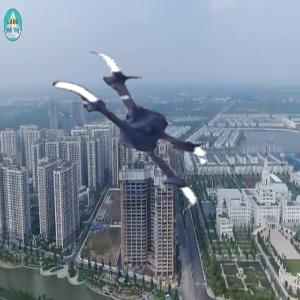drone: (35, 48, 218, 231)
